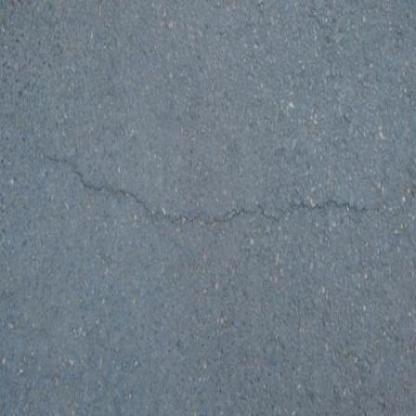Cracks: (28, 133, 389, 243)
